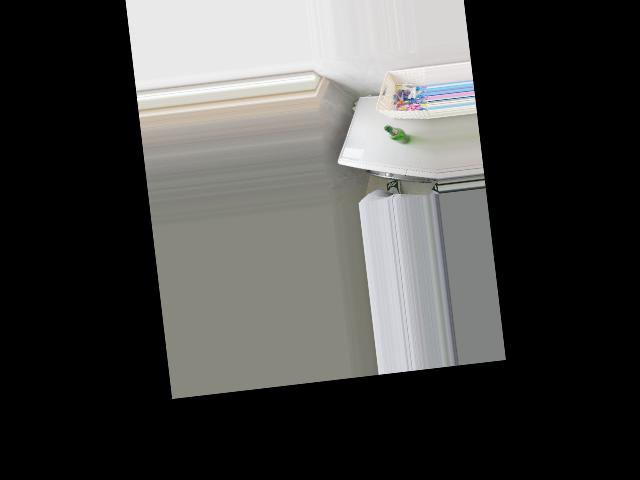beer: (383, 123, 410, 146)
